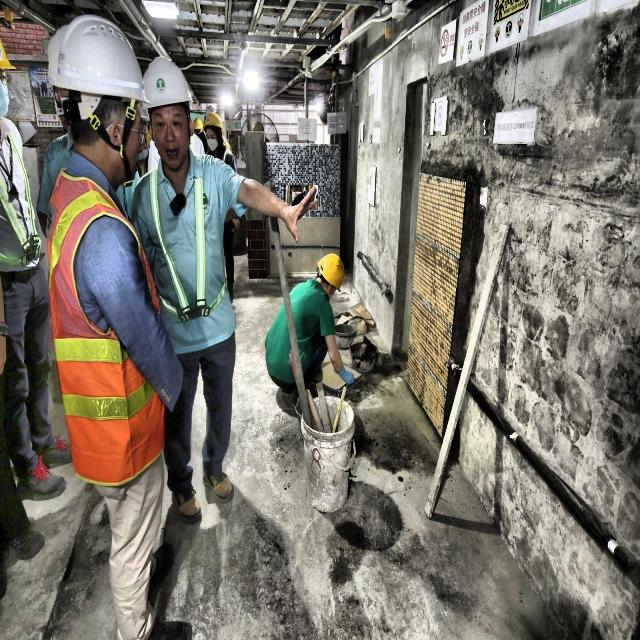safety_helmet: (48, 5, 142, 101), (140, 54, 194, 114), (315, 250, 347, 296), (200, 106, 227, 134), (0, 38, 17, 76)
safety_jacket: (43, 215, 170, 490)
